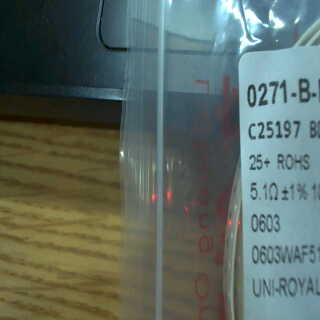5.1R: (249, 178, 281, 202)
